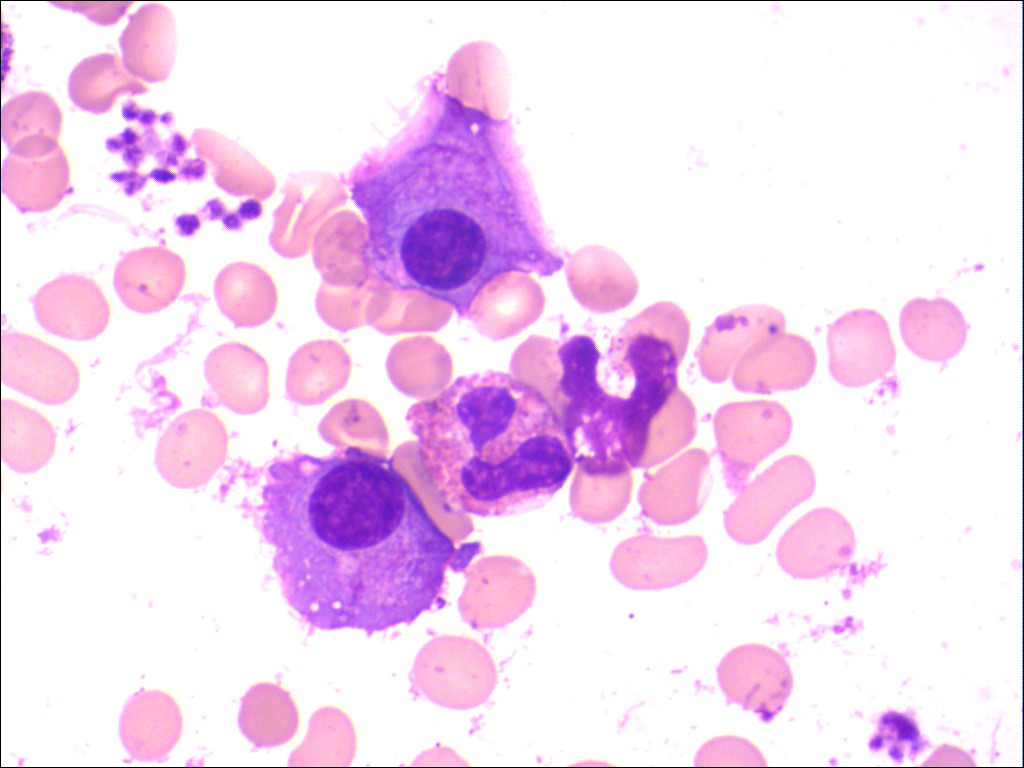51: (345, 76, 570, 319), (257, 442, 485, 644)
E4: (409, 366, 583, 527)
